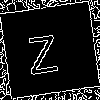Z: (24, 25, 59, 75)
